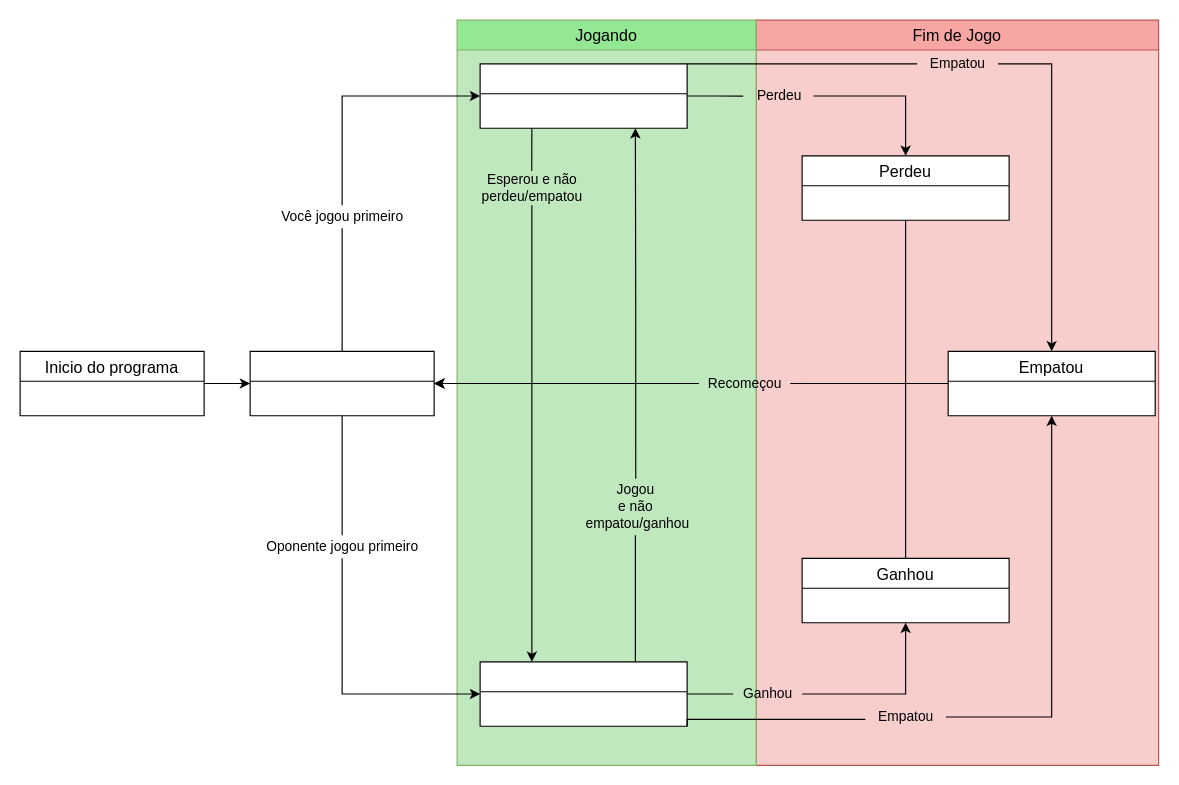
Image size: 1179x785. Some labels were removed from this diagram. Here are the shapes that lost their labels. From the top down, the centre of each, then its label:
point 583,95: Esperando oponente
point 341,383: Primeira Jogada
point 583,693: Esperando Jogada
